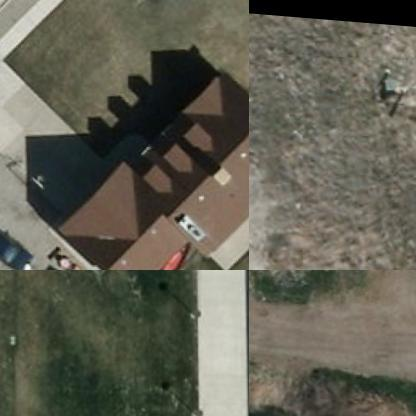pickup: (0, 206, 35, 269)
